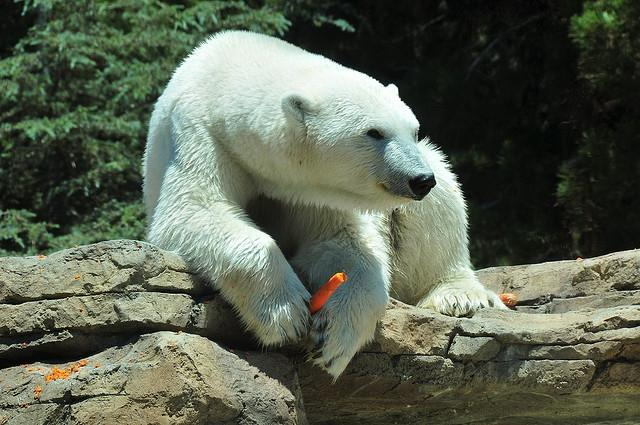carrot: (308, 272, 348, 316), (497, 294, 517, 306), (34, 386, 42, 392), (38, 254, 46, 258), (50, 375, 54, 380), (64, 370, 68, 373)
